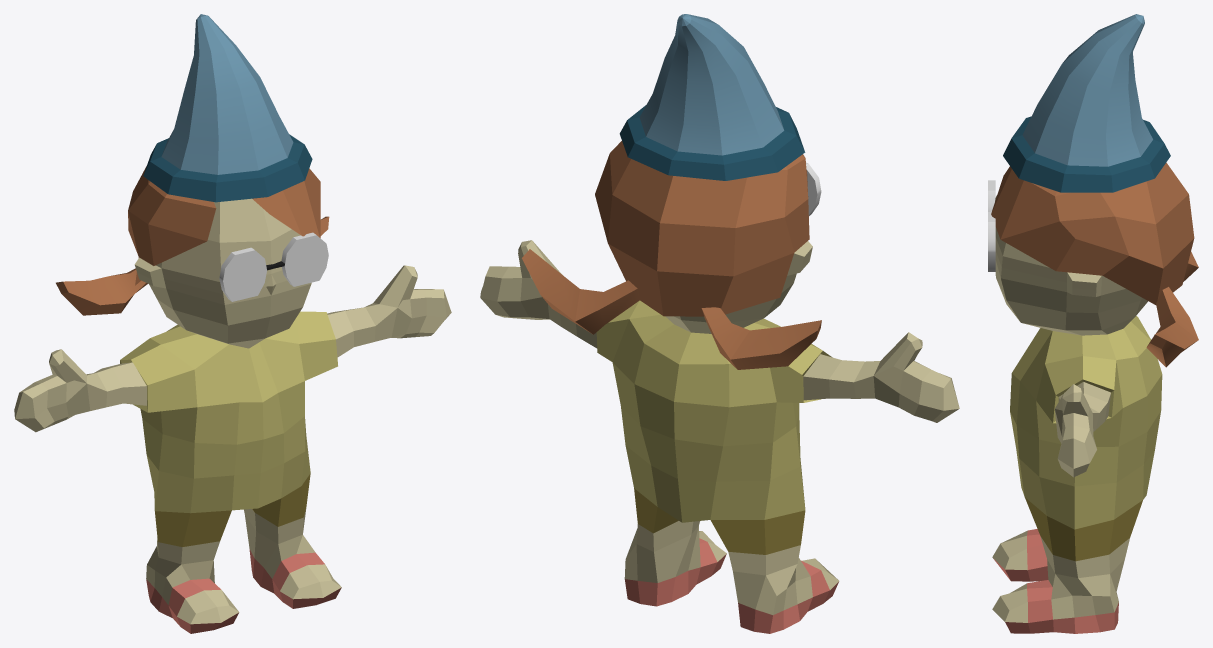
Rendered from LilGirl.fbx.
3 renders of one model, left to right at view 1: azimuth 30°, elevation 25°; view 2: azimuth 150°, elevation 25°; view 3: azimuth 270°, elevation 25°, orthographic. The views are drawn at different scales.
Parts seen in each view (by area): view 1: LilGirl_Bod, LilGirl_Hat, LilGirl_Hair, LilGirl_Glasses, LilGirl_Ponytails; view 2: LilGirl_Bod, LilGirl_Hair, LilGirl_Hat, LilGirl_Ponytails; view 3: LilGirl_Bod, LilGirl_Hat, LilGirl_Hair, LilGirl_Ponytails, LilGirl_Glasses.
Boxes of the visible parts, x1,y1,x2,y2 form: LilGirl_Bod: [14, 198, 451, 633]; LilGirl_Hat: [143, 14, 312, 202]; LilGirl_Hair: [128, 166, 320, 285]; LilGirl_Glasses: [219, 232, 328, 301]; LilGirl_Ponytails: [56, 216, 329, 315]; LilGirl_Bod: [480, 240, 959, 633]; LilGirl_Hair: [595, 141, 809, 316]; LilGirl_Hat: [619, 14, 805, 180]; LilGirl_Ponytails: [522, 249, 821, 369]; LilGirl_Bod: [992, 195, 1162, 633]; LilGirl_Hat: [1003, 14, 1170, 192]; LilGirl_Hair: [991, 162, 1194, 304]; LilGirl_Ponytails: [1146, 251, 1198, 367]; LilGirl_Glasses: [988, 180, 995, 271].
Bounding box in the file's own units: 2.79 × 3.4 × 1.12.
